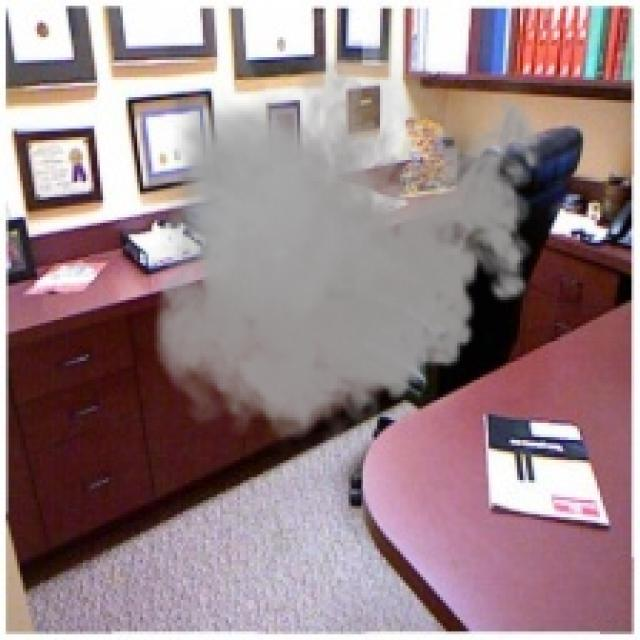smoke: (140, 32, 554, 454)
